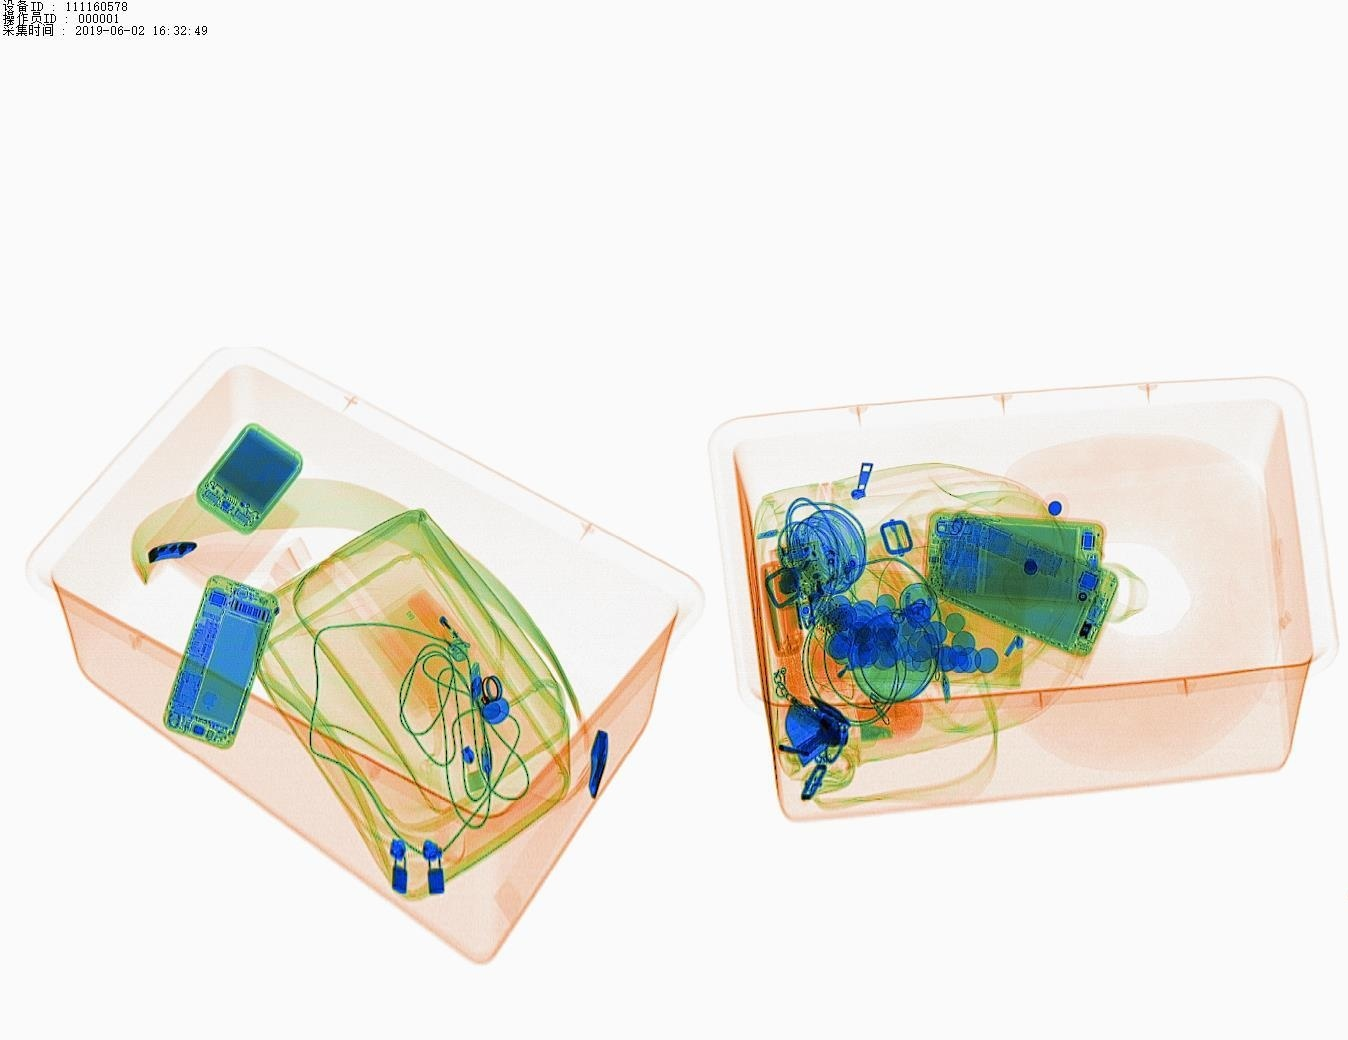NonmetallicFire: (397, 579, 488, 674)
